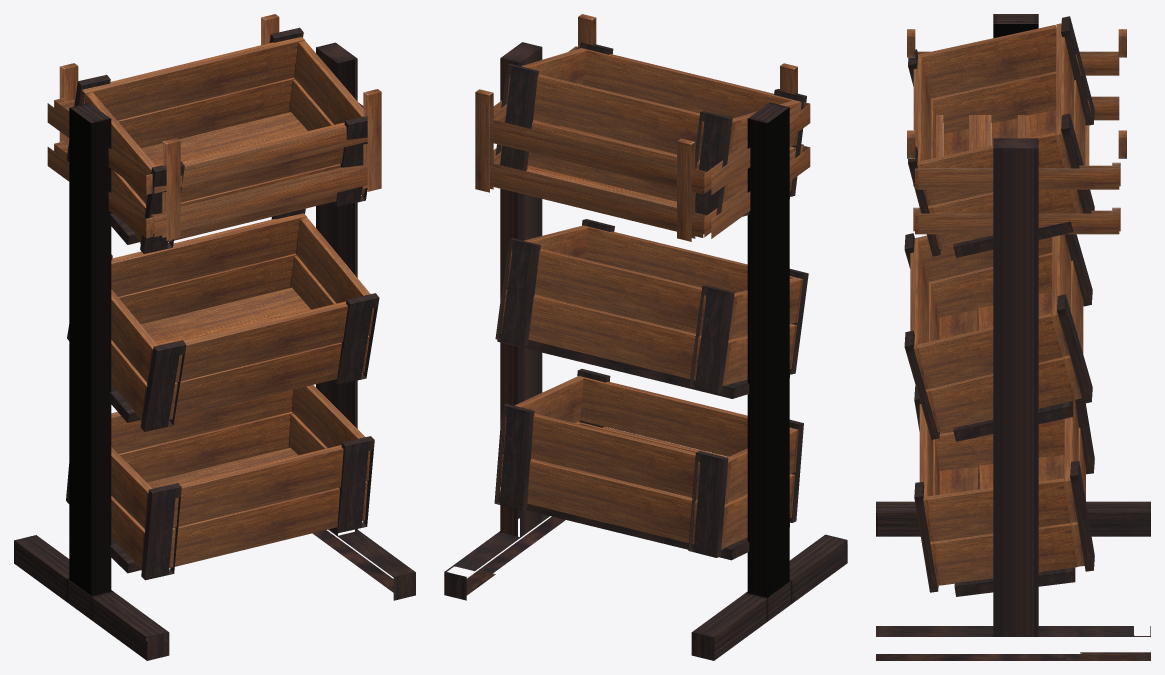
The model's file is fish.fbx.
3 renders of one model, left to right at view 1: azimuth 30°, elevation 25°; view 2: azimuth 150°, elevation 25°; view 3: azimuth 270°, elevation 25°, orthographic. The views are drawn at different scales.
Parts seen in each view (by area): view 1: box2, box3, box1, stnad, stnad.001, Cube.003, Cube.002, Cube.008, Cube.009, Cube.004, Cube.007, Cube.010; view 2: box3, box2, stnad, box1, stnad.001, Cube.006, Cube.005, shelf.001, Cube.008, Cube.010, Cube.016, Cube.009 (+2 smaller); view 3: stnad.001, box1, box2, box3, stnad, Cube.011, Cube.012, shelf.001, shelf.002, shelf, Cube.008, Cube.014 (+1 smaller).
Boxes of the visible parts, x1,y1,x2,y2 form: box2: [67, 208, 379, 431]; box3: [66, 385, 374, 580]; box1: [66, 27, 367, 253]; stnad: [14, 103, 169, 660]; stnad.001: [312, 42, 415, 600]; Cube.003: [151, 165, 367, 236]; Cube.002: [154, 127, 367, 193]; Cube.008: [47, 101, 152, 194]; Cube.009: [47, 144, 153, 238]; Cube.004: [162, 138, 180, 240]; Cube.007: [363, 89, 381, 191]; Cube.010: [59, 63, 78, 145]; box3: [494, 368, 803, 557]; box2: [495, 219, 808, 393]; stnad: [691, 102, 847, 660]; box1: [495, 42, 806, 215]; stnad.001: [444, 42, 565, 600]; Cube.006: [490, 163, 706, 237]; Cube.005: [490, 120, 706, 194]; shelf.001: [497, 330, 790, 398]; Cube.008: [704, 102, 810, 195]; Cube.010: [677, 138, 695, 241]; Cube.016: [475, 89, 493, 192]; Cube.009: [704, 145, 810, 238]; stnad.001: [876, 138, 1150, 660]; box1: [908, 16, 1094, 256]; box2: [904, 233, 1092, 439]; box3: [914, 385, 1094, 592]; stnad: [876, 14, 1150, 536]; Cube.011: [915, 165, 1119, 189]; Cube.012: [915, 210, 1119, 234]; shelf.001: [953, 316, 1073, 441]; shelf.002: [954, 473, 1075, 596]; shelf: [953, 221, 1073, 257]; Cube.008: [917, 51, 1119, 75]; Cube.014: [969, 115, 991, 150].
Size of the model in its own units: 2423 by 4351 by 2078.
